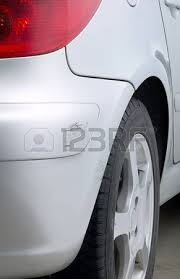Scratch: (68, 120, 91, 136)
